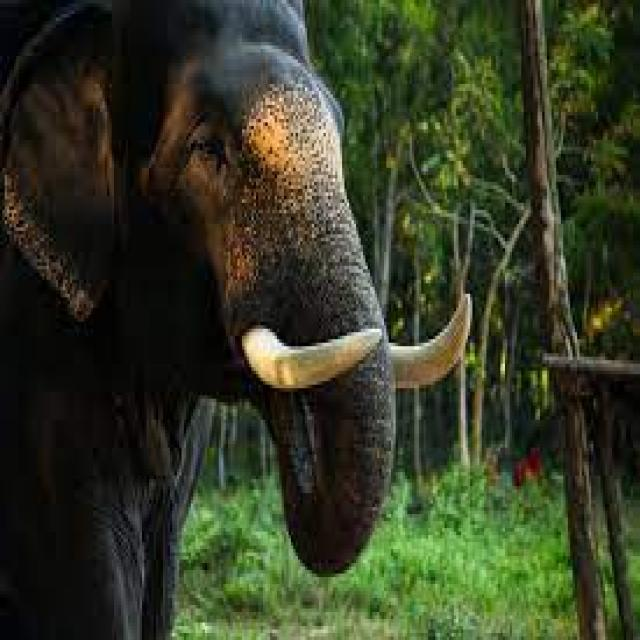Elephant: (4, 0, 477, 640)
